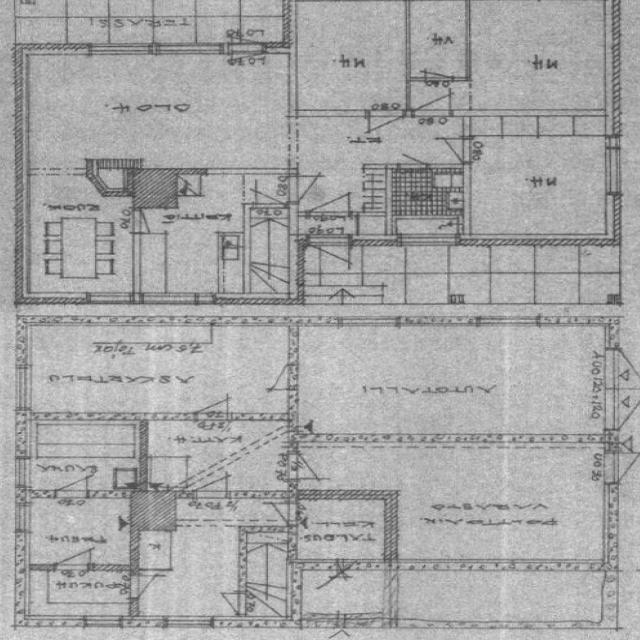door: (308, 235, 351, 278), (603, 389, 640, 432), (603, 348, 640, 390), (308, 181, 349, 217), (55, 537, 91, 571), (414, 83, 450, 117), (368, 110, 404, 143), (192, 466, 227, 499), (253, 365, 297, 391), (288, 454, 331, 480), (603, 453, 640, 483), (289, 176, 331, 202), (54, 466, 87, 499), (231, 43, 262, 78), (195, 388, 227, 421), (231, 20, 262, 54), (130, 576, 171, 600), (431, 139, 472, 163), (134, 210, 171, 233), (259, 504, 297, 526), (254, 181, 284, 208), (399, 143, 428, 169), (210, 594, 247, 614), (425, 57, 453, 81)
